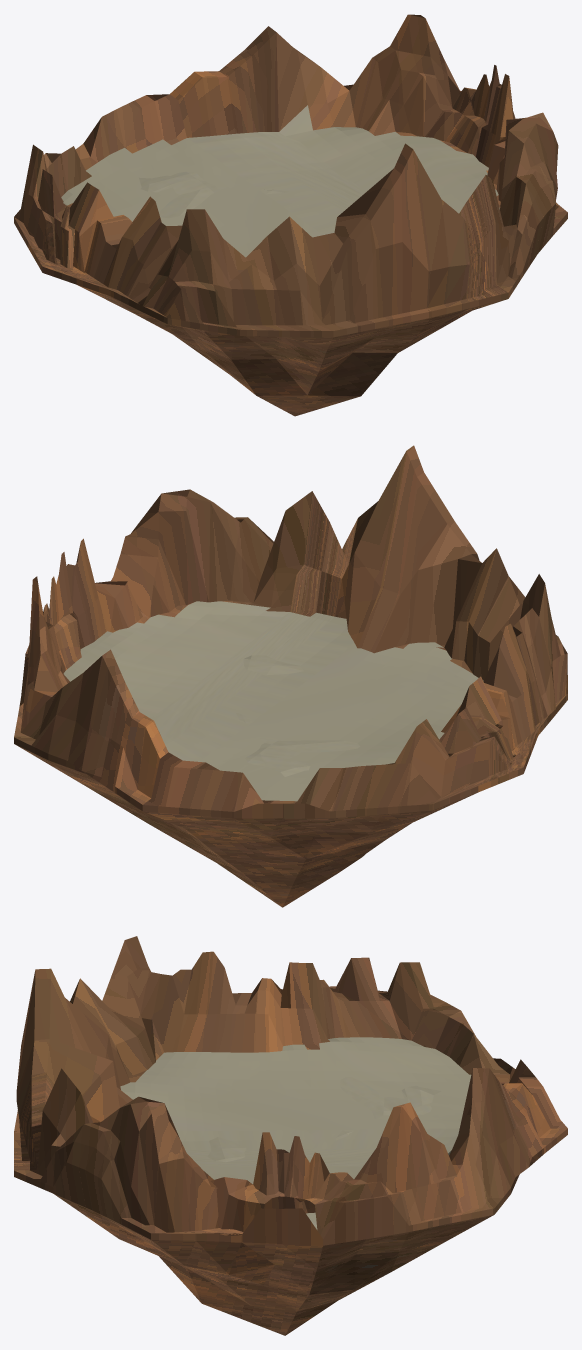
File: island-a.glb
3 renders of one model, top to bottom at view 1: azimuth 30°, elevation 25°; view 2: azimuth 150°, elevation 25°; view 3: azimuth 270°, elevation 25°, orthographic. The views are drawn at different scales.
Parts seen in each view (by area): view 1: Cone, Cone.001; view 2: Cone, Cone.001; view 3: Cone, Cone.001.
Part boxes in pixels (bbox=[...]): Cone: bbox=[14, 14, 567, 416]; Cone.001: bbox=[139, 171, 289, 218]; Cone: bbox=[14, 445, 567, 907]; Cone.001: bbox=[236, 655, 359, 776]; Cone: bbox=[14, 936, 567, 1335]; Cone.001: bbox=[207, 1077, 441, 1229].
Size of the model in its own units: 59.02 by 43.39 by 59.71.
3 materials, 3 textured.
